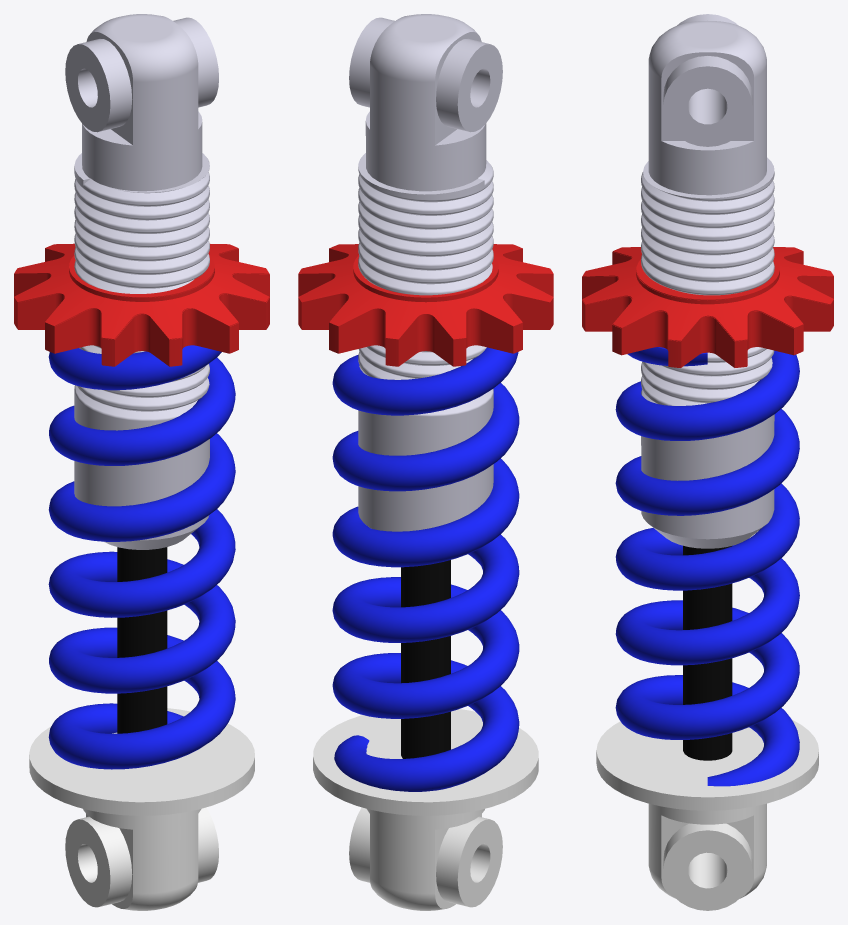
Rendered from Suspension.glb.
3 views of the same model, side by side, from view 1: azimuth 30°, elevation 25°; view 2: azimuth 150°, elevation 25°; view 3: azimuth 270°, elevation 25° (orthographic).
Parts seen in each view (by area): view 1: Spring, Rod, Base, Nit, Nut; view 2: Spring, Rod, Base, Nit; view 3: Rod, Spring, Base, Nit, Nut.
Boxes of the visible parts, <box> form: Spring: <box>48,345,235,769</box>; Rod: <box>65,14,218,549</box>; Base: <box>29,547,254,910</box>; Nit: <box>14,243,269,365</box>; Nut: <box>17,249,269,366</box>; Spring: <box>332,347,519,791</box>; Rod: <box>349,14,502,531</box>; Base: <box>313,560,538,910</box>; Nit: <box>298,244,553,366</box>; Rod: <box>641,14,774,548</box>; Spring: <box>615,347,799,786</box>; Base: <box>596,545,818,910</box>; Nit: <box>582,247,833,367</box>; Nut: <box>582,252,833,367</box>.
Size of the model in its own units: 5.09 by 19.04 by 5.09.
